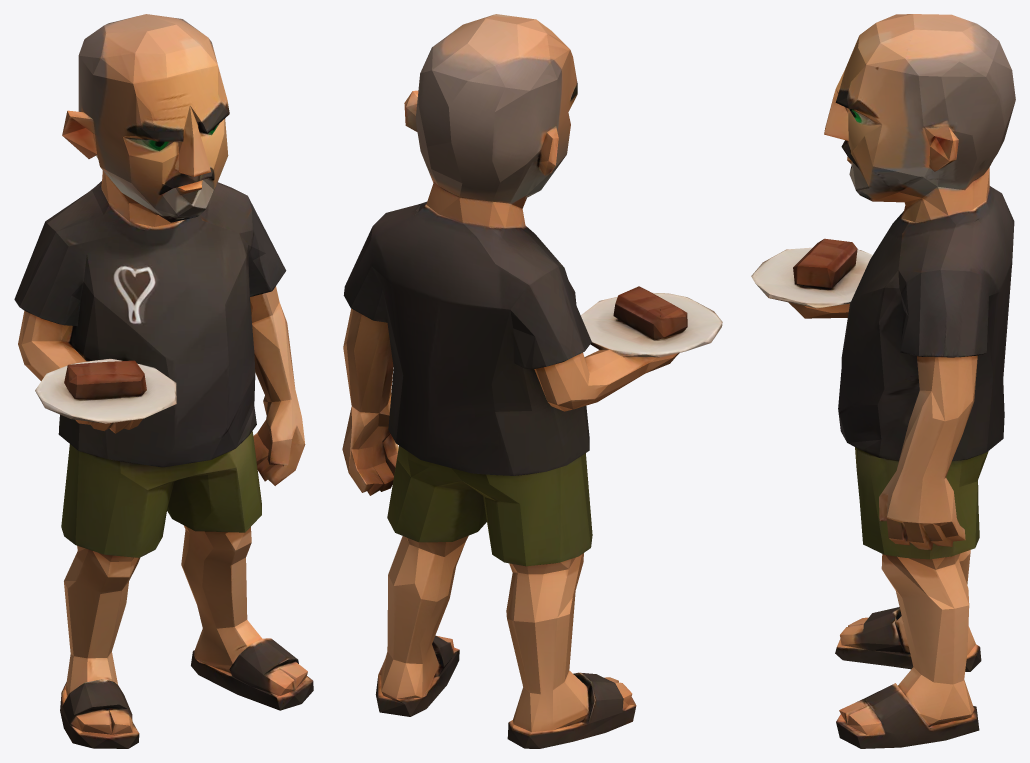
The model's file is man-with-beef.glb.
3 views of the same model, side by side, from view 1: azimuth 30°, elevation 25°; view 2: azimuth 150°, elevation 25°; view 3: azimuth 270°, elevation 25° (orthographic). The views are drawn at different scales.
Visible parts, largest first — view 1: model; view 2: model; view 3: model.
Boxes of the visible parts, bbox=[...] form: model: bbox=[14, 14, 313, 748]; model: bbox=[342, 14, 722, 748]; model: bbox=[751, 14, 1015, 748].
Bounding box in the file's own units: 0.8551 × 1.83 × 0.6575.
Materials: 1 (1 with a texture image).
